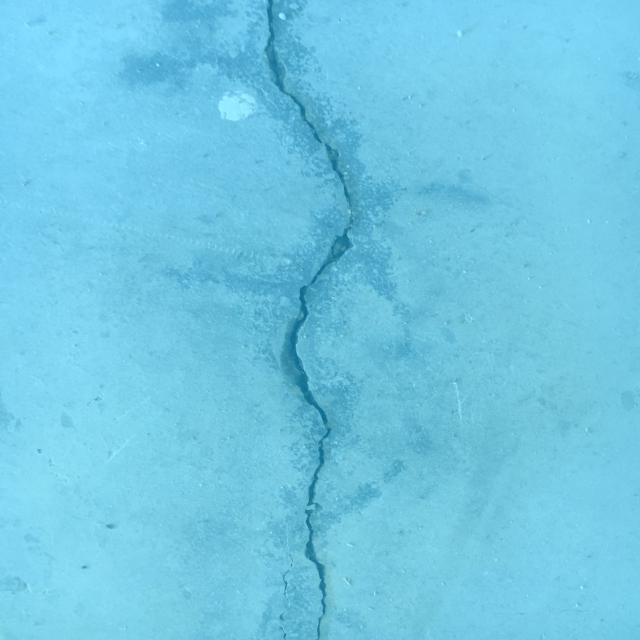crack: (264, 0, 355, 640), (279, 554, 293, 621), (279, 626, 288, 640)
